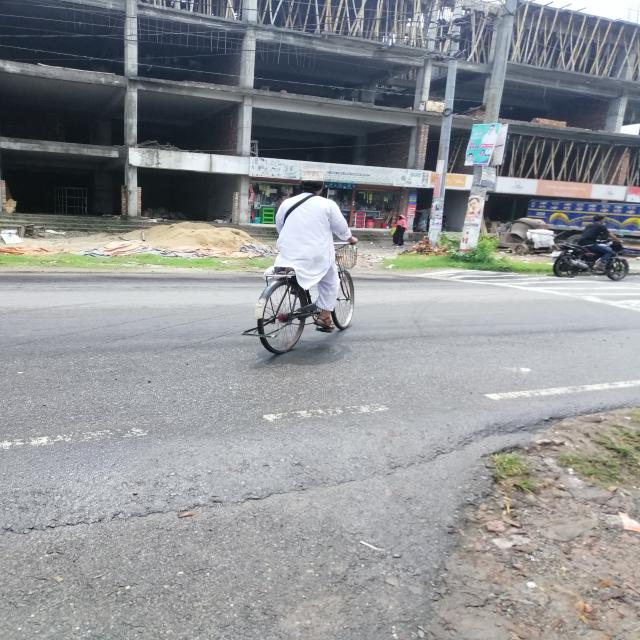Bicycle: (235, 238, 393, 370)
Motorbike: (548, 241, 633, 286)
